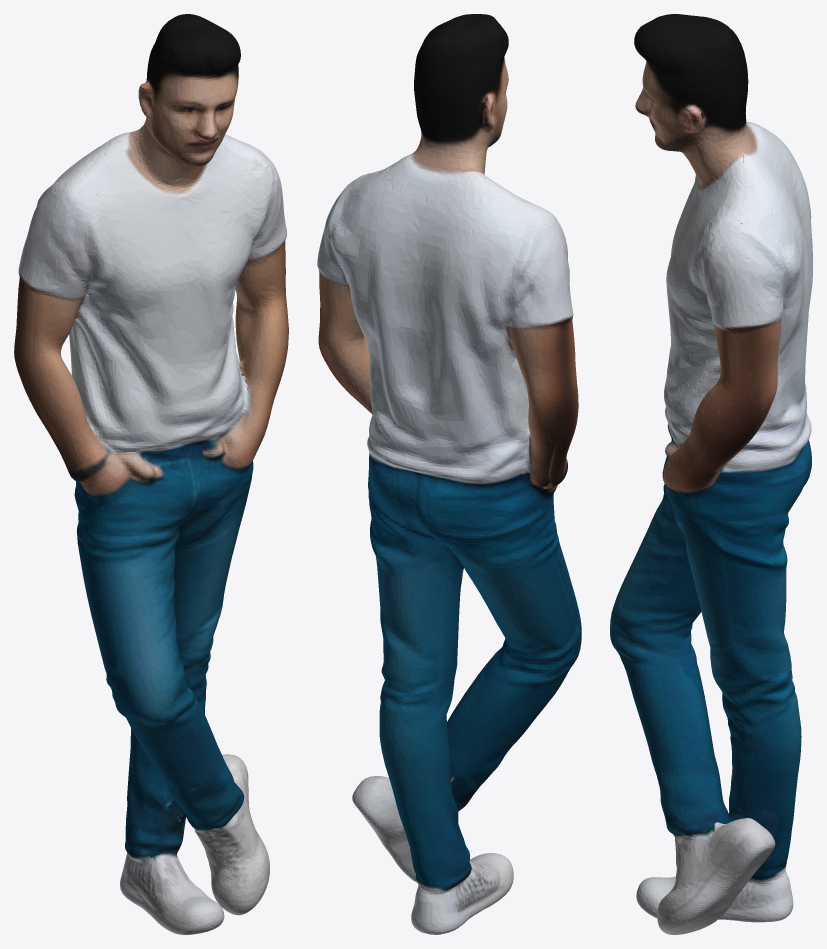
The model's file is fitted-tshirt.glb.
3 renders of one model, left to right at view 1: azimuth 30°, elevation 25°; view 2: azimuth 150°, elevation 25°; view 3: azimuth 270°, elevation 25°, orthographic. The views are drawn at different scales.
Parts seen in each view (by area): view 1: world; view 2: world; view 3: world.
Part boxes in pixels (x1,y1,x2,y2): world: (14, 14, 288, 934); world: (317, 14, 581, 934); world: (610, 14, 812, 934).
Bounding box in the file's own units: 0.6046 × 1.99 × 0.4074.
Materials: 1 (1 with a texture image).
